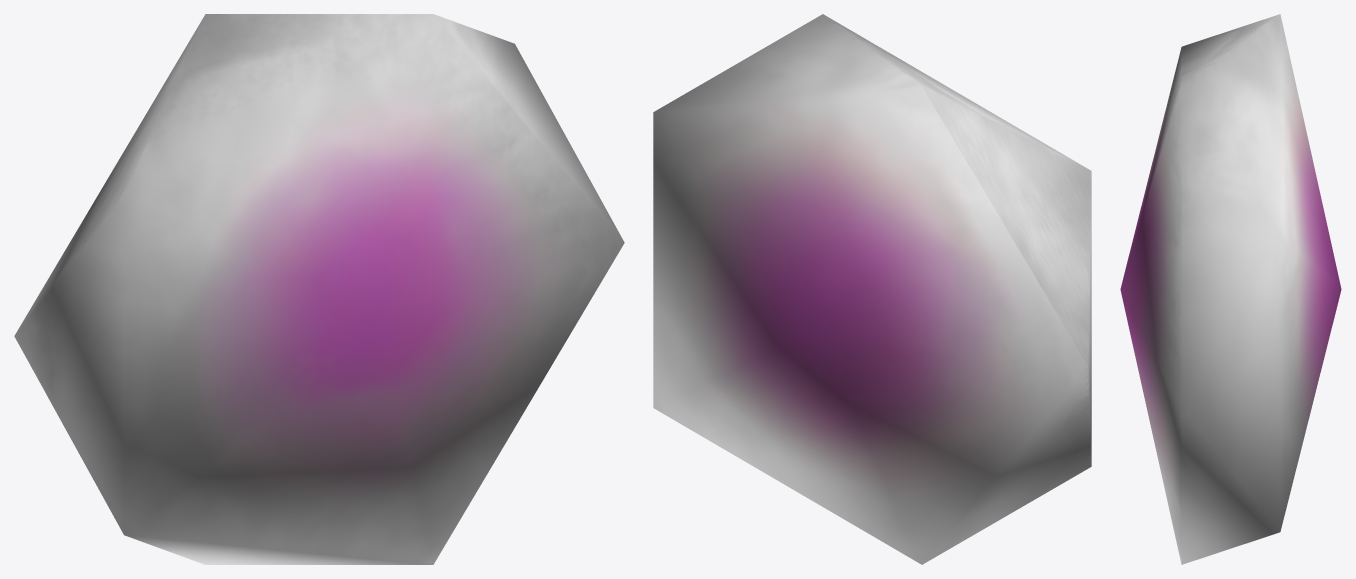
Rendered from white_blood_cell.glb.
3 renders of one model, left to right at view 1: azimuth 30°, elevation 25°; view 2: azimuth 150°, elevation 25°; view 3: azimuth 270°, elevation 25°, orthographic. The views are drawn at different scales.
Visible parts, largest first — view 1: Icosphere; view 2: Icosphere; view 3: Icosphere.
Part boxes in pixels (x1,y1,x2,y2): Icosphere: (14,14,624,564); Icosphere: (653,14,1091,564); Icosphere: (1120,14,1341,564).
Bounding box in the file's own units: 1.79 × 1.7 × 0.7125.
1 material, 1 textured.
